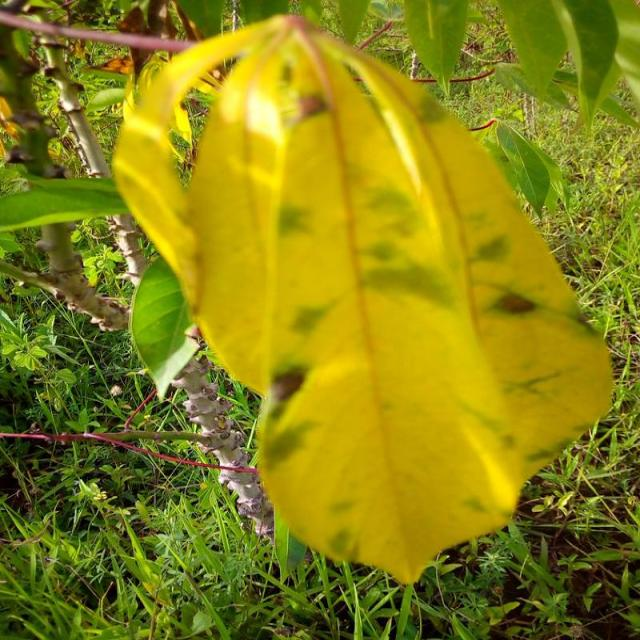cassava leaf: (110, 12, 615, 586)
